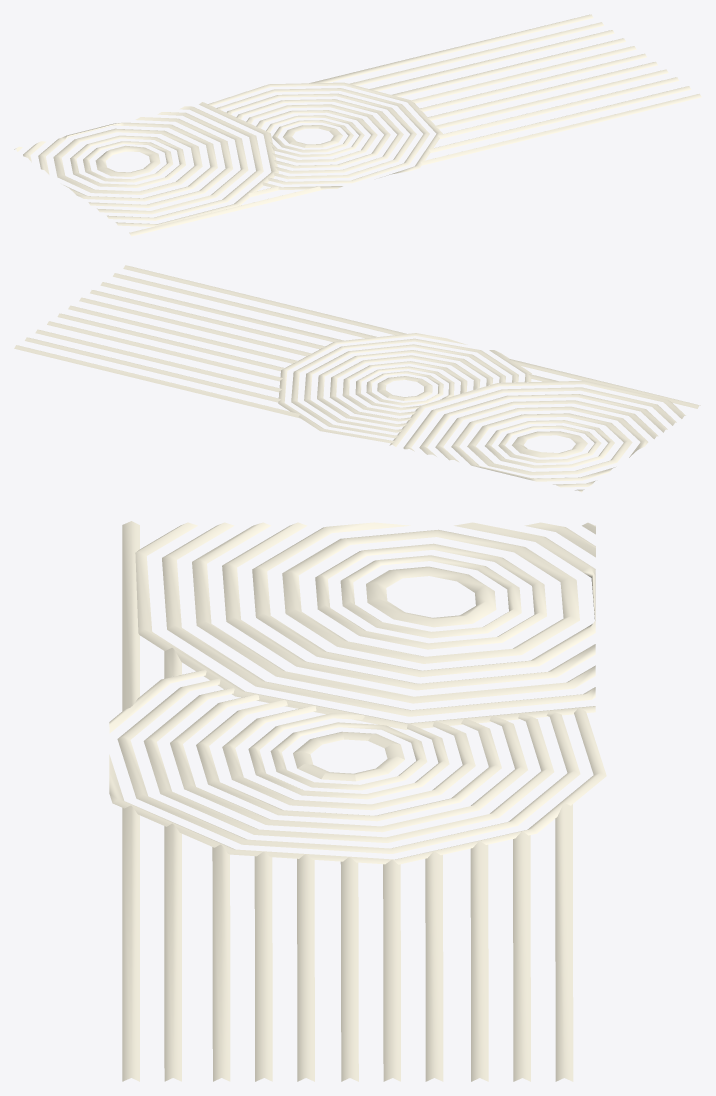
Rendered from StoneFloorPattern_02.fbx.
The picture shows the model from 3 angles, top to bottom: view 1: azimuth 30°, elevation 25°; view 2: azimuth 150°, elevation 25°; view 3: azimuth 270°, elevation 25°; orthographic projection. The views are drawn at different scales.
Visible parts, largest first — view 1: FloorPattern_02; view 2: FloorPattern_02; view 3: FloorPattern_02.
Part boxes in pixels (x1,y1,x2,y2): FloorPattern_02: (14, 14, 701, 236); FloorPattern_02: (14, 265, 700, 492); FloorPattern_02: (109, 521, 606, 1081).
Bounding box in the file's own units: 3878 × 22.38 × 1464.
